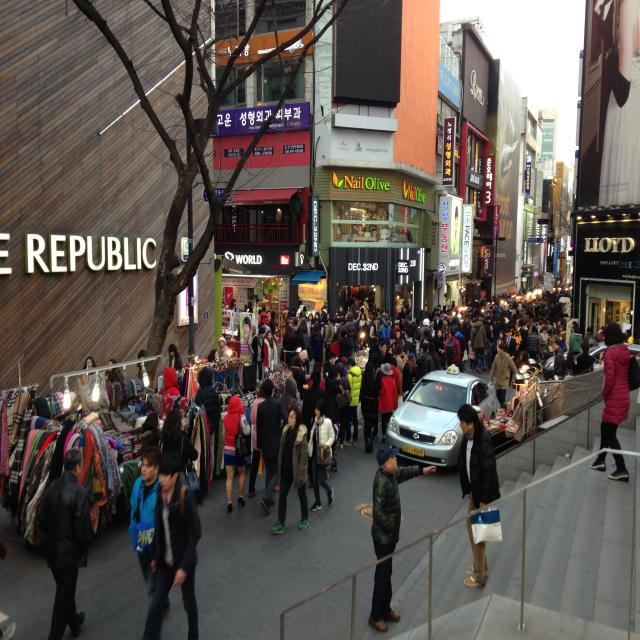body: (372, 282, 572, 362), (368, 442, 438, 633), (30, 446, 93, 640), (140, 458, 201, 640), (596, 0, 639, 212), (456, 403, 502, 589), (588, 321, 640, 484), (128, 448, 171, 614), (268, 403, 312, 537), (255, 374, 290, 518), (222, 392, 252, 516), (158, 408, 199, 492), (307, 398, 336, 512), (301, 368, 327, 489), (194, 368, 219, 483), (324, 364, 352, 455), (356, 359, 379, 455), (248, 381, 267, 497), (489, 342, 519, 409), (342, 354, 362, 446), (377, 362, 399, 445), (332, 362, 352, 451), (364, 352, 382, 440), (280, 377, 304, 428), (469, 316, 488, 374), (138, 412, 161, 456), (249, 328, 265, 388), (289, 355, 307, 402), (393, 343, 407, 403), (504, 328, 517, 386), (262, 330, 278, 376), (416, 342, 434, 382), (453, 326, 468, 374), (568, 327, 584, 372), (402, 353, 416, 403), (482, 316, 494, 372), (444, 329, 461, 368), (310, 322, 324, 368), (305, 361, 326, 391), (449, 204, 461, 256), (210, 348, 224, 392), (575, 342, 594, 374), (282, 325, 296, 367), (322, 350, 345, 375), (552, 340, 566, 380), (527, 325, 540, 368), (323, 316, 335, 362), (348, 289, 372, 311), (538, 325, 549, 370), (338, 329, 355, 358), (168, 343, 183, 375), (204, 353, 217, 389), (288, 349, 308, 372), (105, 358, 124, 382), (378, 316, 393, 346), (334, 305, 346, 342), (240, 316, 254, 346), (344, 311, 357, 343), (428, 342, 442, 370), (511, 326, 523, 358), (360, 316, 371, 349), (432, 328, 444, 357), (217, 336, 230, 362), (468, 336, 477, 373), (136, 349, 146, 380), (368, 315, 378, 346), (280, 310, 291, 338), (82, 356, 97, 376), (306, 313, 315, 346), (451, 388, 465, 409), (268, 310, 279, 336), (252, 298, 262, 325), (330, 332, 340, 359), (518, 322, 527, 351), (496, 329, 506, 354), (584, 327, 594, 352), (588, 331, 601, 348), (258, 308, 269, 328), (312, 311, 322, 330), (297, 313, 307, 330), (363, 294, 370, 318), (291, 317, 299, 337), (350, 299, 360, 315), (320, 312, 333, 324), (260, 321, 271, 335), (321, 304, 328, 324), (598, 351, 605, 370), (626, 329, 634, 344), (299, 306, 307, 320), (598, 326, 605, 342), (266, 310, 271, 330), (229, 298, 236, 312), (247, 300, 253, 314), (299, 320, 307, 330), (285, 307, 290, 322), (241, 304, 248, 312), (290, 308, 296, 317), (222, 301, 226, 310)
